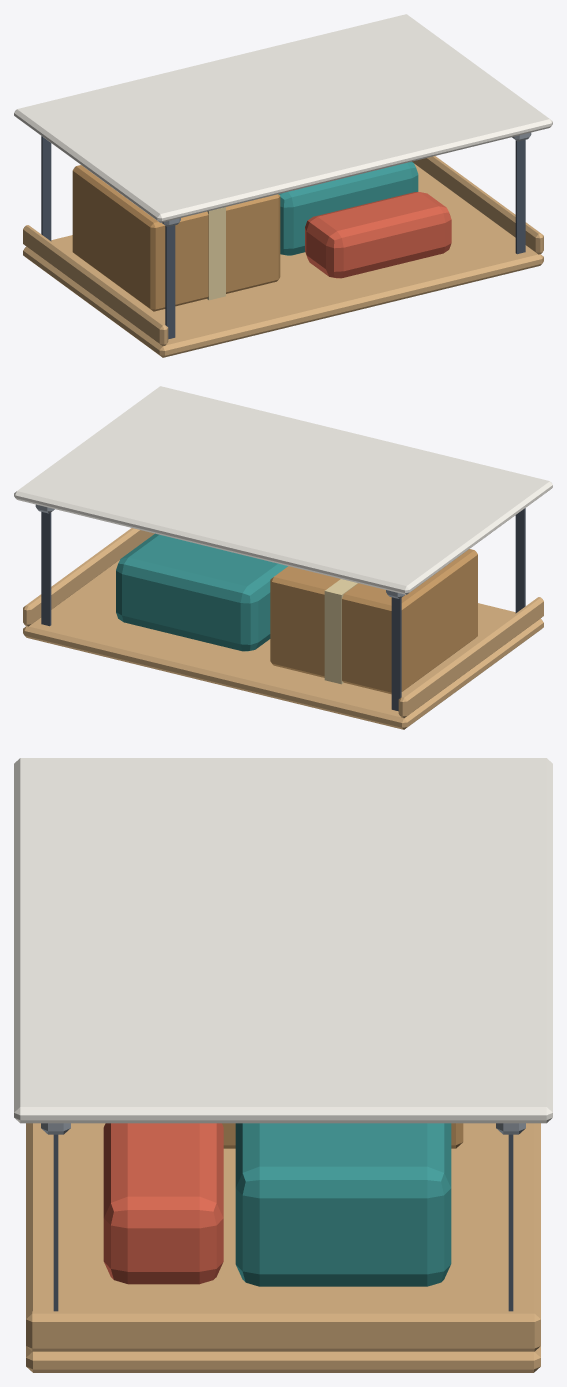
The model's file is ceiling_lift_storage.glb.
3 views of the same model, one above another, from view 1: azimuth 30°, elevation 25°; view 2: azimuth 150°, elevation 25°; view 3: azimuth 270°, elevation 25° (orthographic). The views are drawn at different scales.
Visible parts, largest first — view 1: ceiling_lift_storage_Body; view 2: ceiling_lift_storage_Body; view 3: ceiling_lift_storage_Body.
Boxes of the visible parts, bbox=[...] form: ceiling_lift_storage_Body: bbox=[14, 14, 552, 357]; ceiling_lift_storage_Body: bbox=[14, 386, 552, 729]; ceiling_lift_storage_Body: bbox=[14, 758, 552, 1372].
Bounding box in the file's own units: 1.4 × 0.5 × 0.9.
